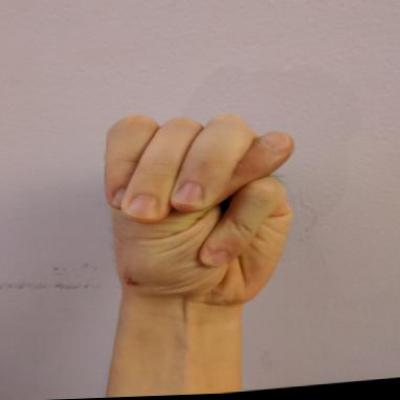hand: (88, 97, 311, 319)
